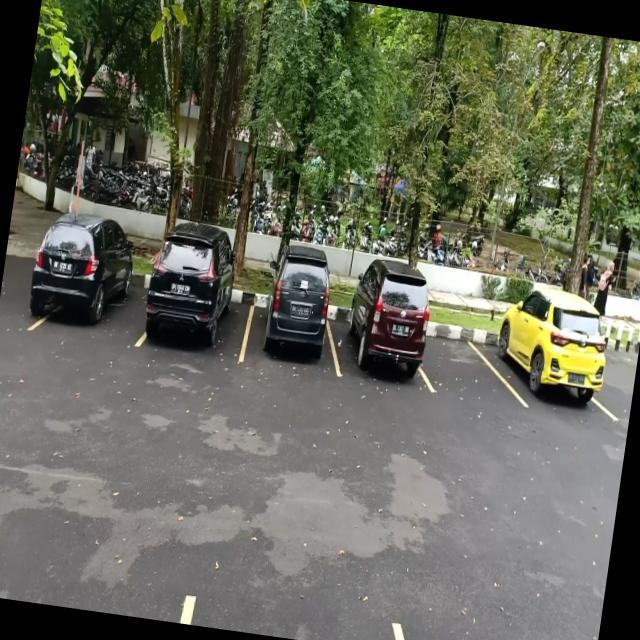empty: (419, 313, 501, 402)
occupied: (29, 229, 152, 349), (490, 306, 615, 419), (138, 264, 254, 358), (239, 278, 348, 376), (337, 301, 433, 385)
